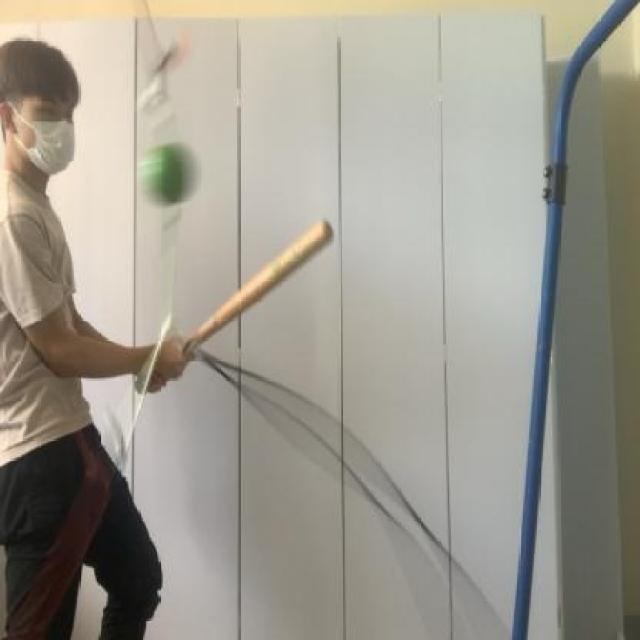baseball: (131, 138, 204, 207)
